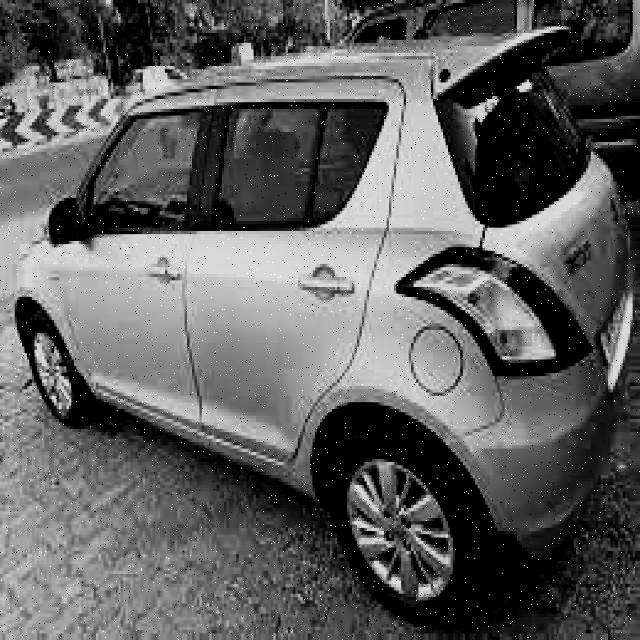Car: (11, 57, 640, 615)
